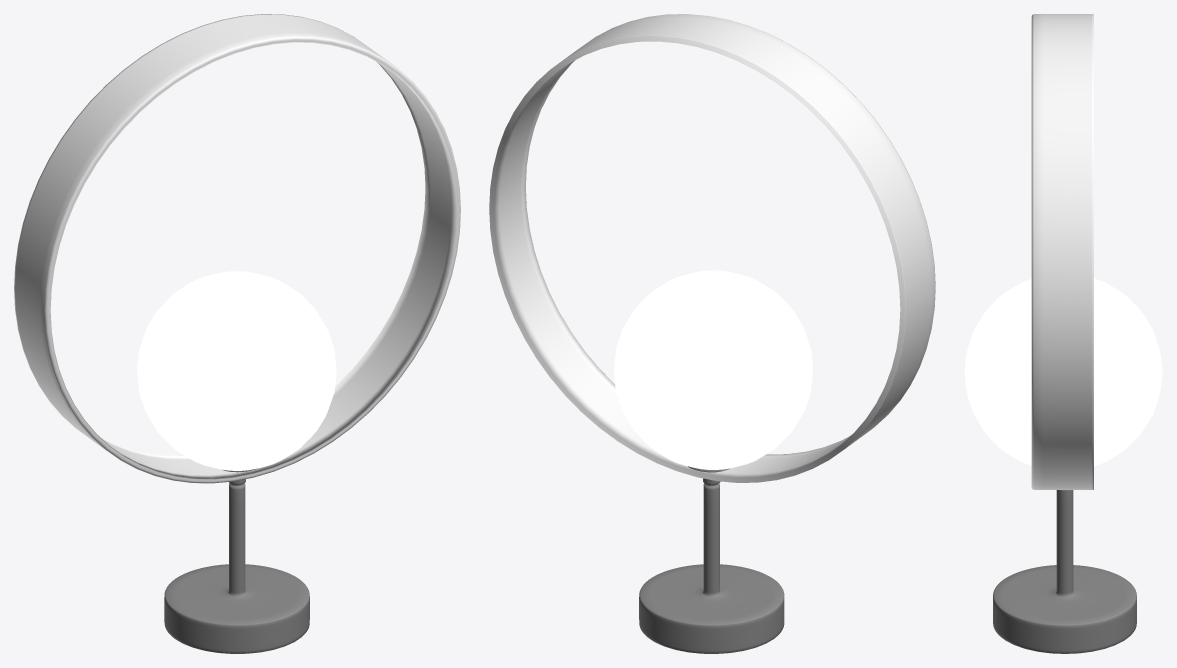
The model's file is ceilingLights2.glb.
3 views of the same model, side by side, from view 1: azimuth 30°, elevation 25°; view 2: azimuth 150°, elevation 25°; view 3: azimuth 270°, elevation 25° (orthographic).
Parts seen in each view (by area): view 1: Ceiling Light; view 2: Ceiling Light; view 3: Ceiling Light.
Boxes of the visible parts, <box> form: Ceiling Light: <box>14,14,460,653</box>; Ceiling Light: <box>489,14,935,653</box>; Ceiling Light: <box>964,14,1162,653</box>.
Size of the model in its own units: 1.03 by 1.4 by 0.4263.
3 materials, 1 textured.
